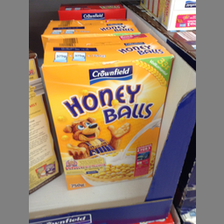cereal: (39, 35, 173, 191)
